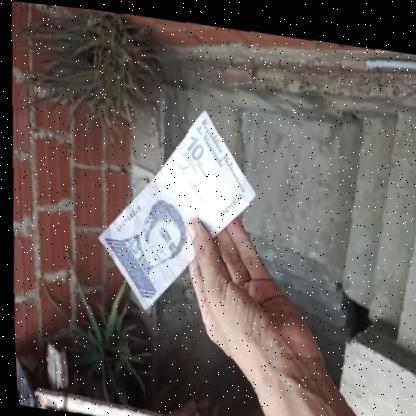ten-front-vef: (86, 90, 262, 323)
